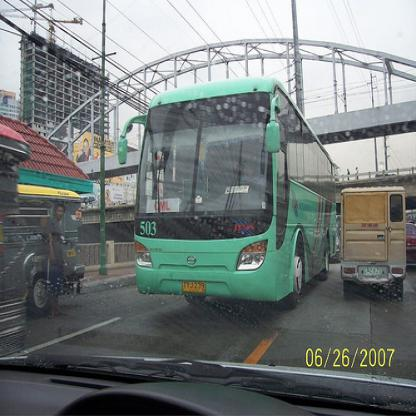bus: (120, 78, 339, 308)
car: (341, 186, 408, 301)
person: (44, 203, 67, 318)
